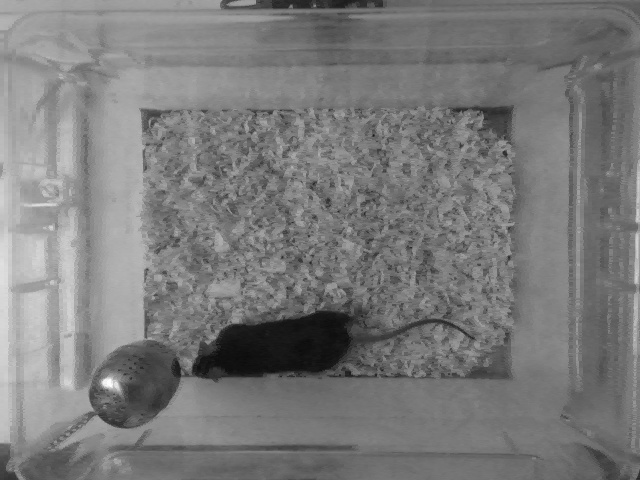mice: (190, 308, 471, 381)
